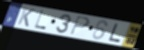3: (55, 14, 73, 34)
6: (91, 20, 110, 41)
K: (16, 6, 37, 28)
L: (107, 23, 122, 44), (34, 10, 48, 31)
P: (69, 15, 91, 36)
